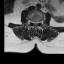CCS_severe_stenosis: (34, 19, 36, 27)
LFS_normal: (38, 19, 40, 25)
LLS_normal: (36, 19, 38, 26)
RFS_stenosis: (31, 18, 33, 24)
RLS_normal: (33, 19, 34, 26)
